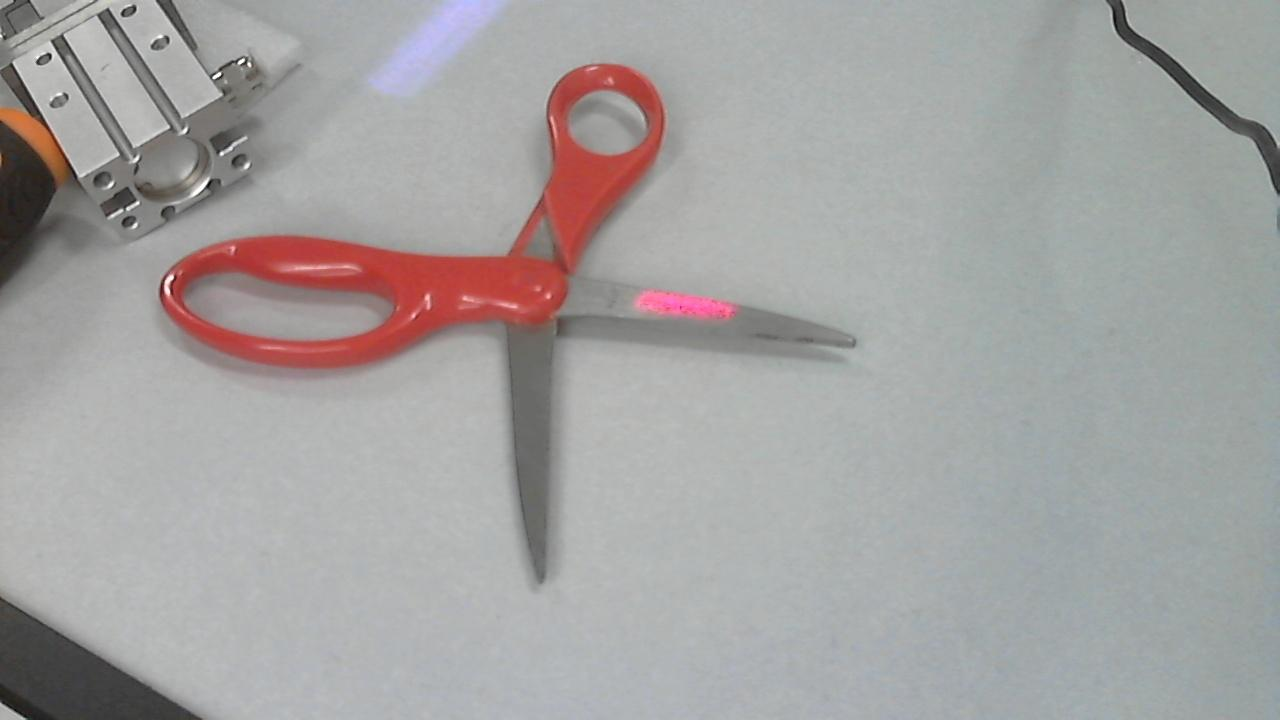Object scissors - Material metal - Pdfname tYexGlkiIXWc: (613, 280, 742, 327)
